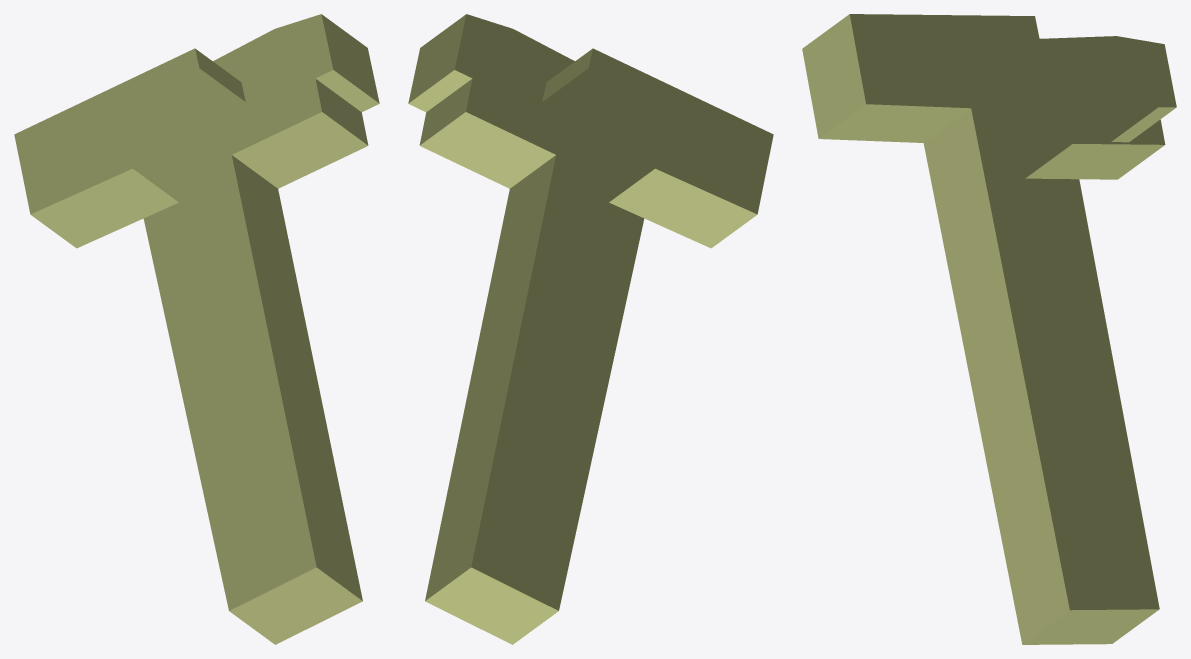
3 renders of one model, left to right at view 1: azimuth 30°, elevation 25°; view 2: azimuth 150°, elevation 25°; view 3: azimuth 330°, elevation 25°, orthographic. The views are drawn at different scales.
Parts seen in each view (by area): view 1: 0_1_0_0_3_0_2_0; view 2: 0_1_0_0_3_0_2_0; view 3: 0_1_0_0_3_0_2_0.
Boxes of the visible parts, x1,y1,x2,y2 form: 0_1_0_0_3_0_2_0: [14, 14, 379, 644]; 0_1_0_0_3_0_2_0: [408, 14, 773, 644]; 0_1_0_0_3_0_2_0: [802, 14, 1176, 644].
Bounding box in the file's own units: 23.84 × 41.01 × 6.
